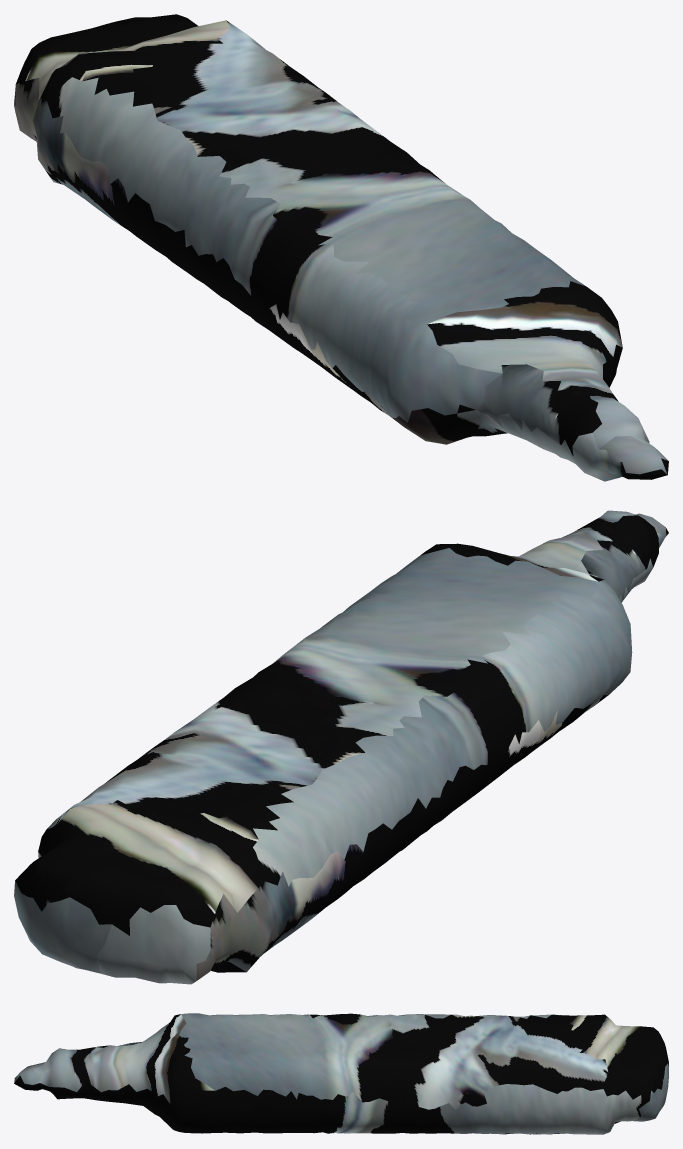
Rendered from scan_align.obj.
3 views of the same model, one above another, from view 1: azimuth 30°, elevation 25°; view 2: azimuth 150°, elevation 25°; view 3: azimuth 270°, elevation 25° (orthographic). The views are drawn at different scales.
Size of the model in its own units: 0.0257 by 0.0142 by 0.1075.
